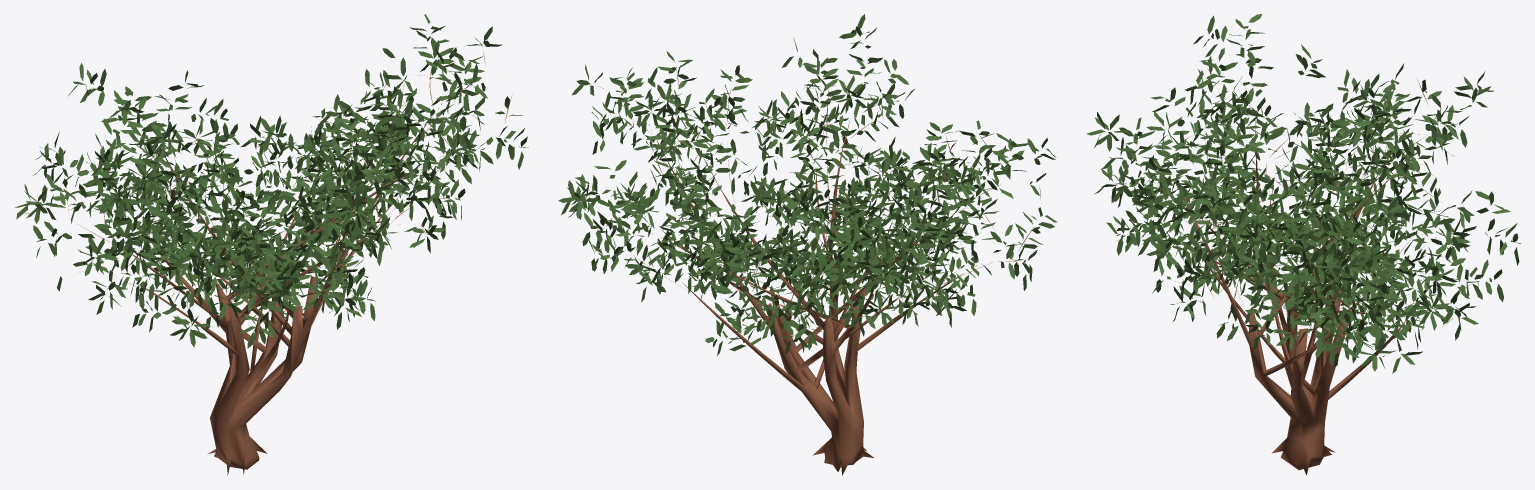
Rendered from Arbousier_2_Niveau1.fbx.
The picture shows the model from 3 angles, left to right: view 1: azimuth 30°, elevation 25°; view 2: azimuth 150°, elevation 25°; view 3: azimuth 270°, elevation 25°; orthographic projection. The views are drawn at different scales.
Visible parts, largest first — view 1: Arbousier_2_Niveau1_Jeu; view 2: Arbousier_2_Niveau1_Jeu; view 3: Arbousier_2_Niveau1_Jeu.
Boxes of the visible parts, x1,y1,x2,y2 form: Arbousier_2_Niveau1_Jeu: [15, 14, 528, 475]; Arbousier_2_Niveau1_Jeu: [558, 14, 1057, 475]; Arbousier_2_Niveau1_Jeu: [1087, 14, 1520, 475].
Size of the model in its own units: 330 by 260 by 263.
